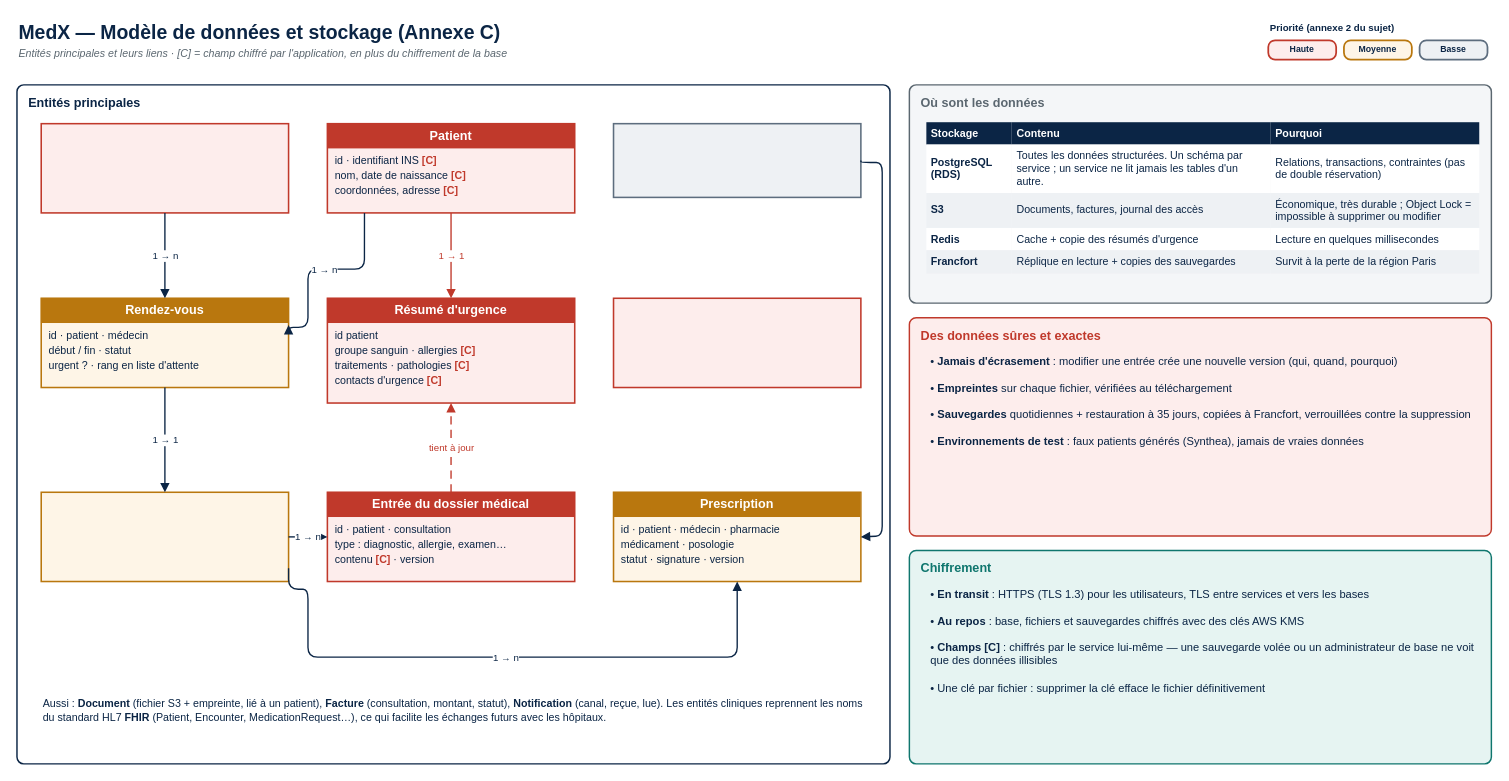
This 1509x781 diagram has some shape labels left out. Each missing label, with the centre of its shape:
"Consultation id · rendez-vous début / fin notes du médecin [C] (versionnées)" belongs at (x=164, y=536).
"Journal des accès qui · quel patient · quand motif (ex. urgence) ajout seulement" belongs at (x=736, y=342).
"Médecin id · n° RPPS spécialité nom, coordonnées [C]" belongs at (x=164, y=167).
"Pharmacie id · n° FINESS adresse · horaires" belongs at (x=736, y=160).
